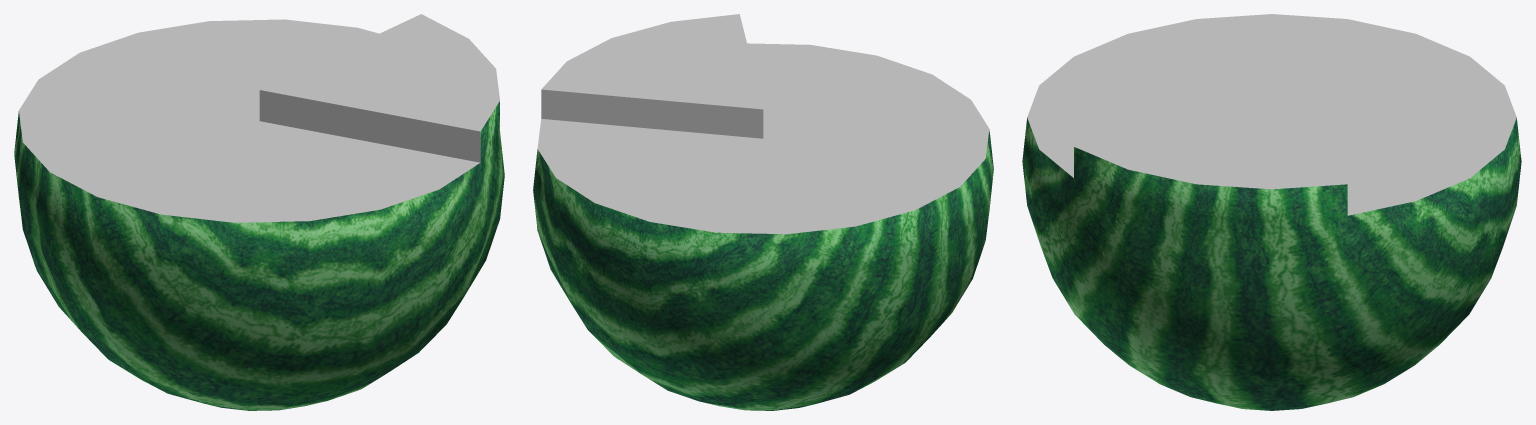
Rendered from watermelon2.fbx.
The picture shows the model from 3 angles, left to right: view 1: azimuth 30°, elevation 25°; view 2: azimuth 150°, elevation 25°; view 3: azimuth 270°, elevation 25°; orthographic projection. The views are drawn at different scales.
Visible parts, largest first — view 1: watermelon2; view 2: watermelon2; view 3: watermelon2.
Boxes of the visible parts, left/top/right/bottom form: watermelon2: left=14, top=14, right=504, bottom=410; watermelon2: left=533, top=14, right=993, bottom=410; watermelon2: left=1022, top=14, right=1521, bottom=410.
Bounding box in the file's own units: 200 × 133 × 200.
